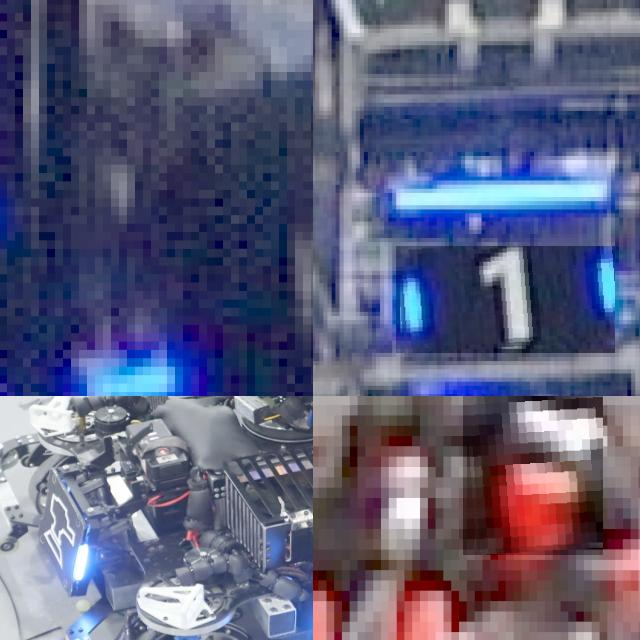B1: (396, 246, 615, 353)
Bs: (30, 468, 103, 595)
R4: (462, 396, 603, 555), (313, 554, 478, 640), (584, 436, 640, 622)
